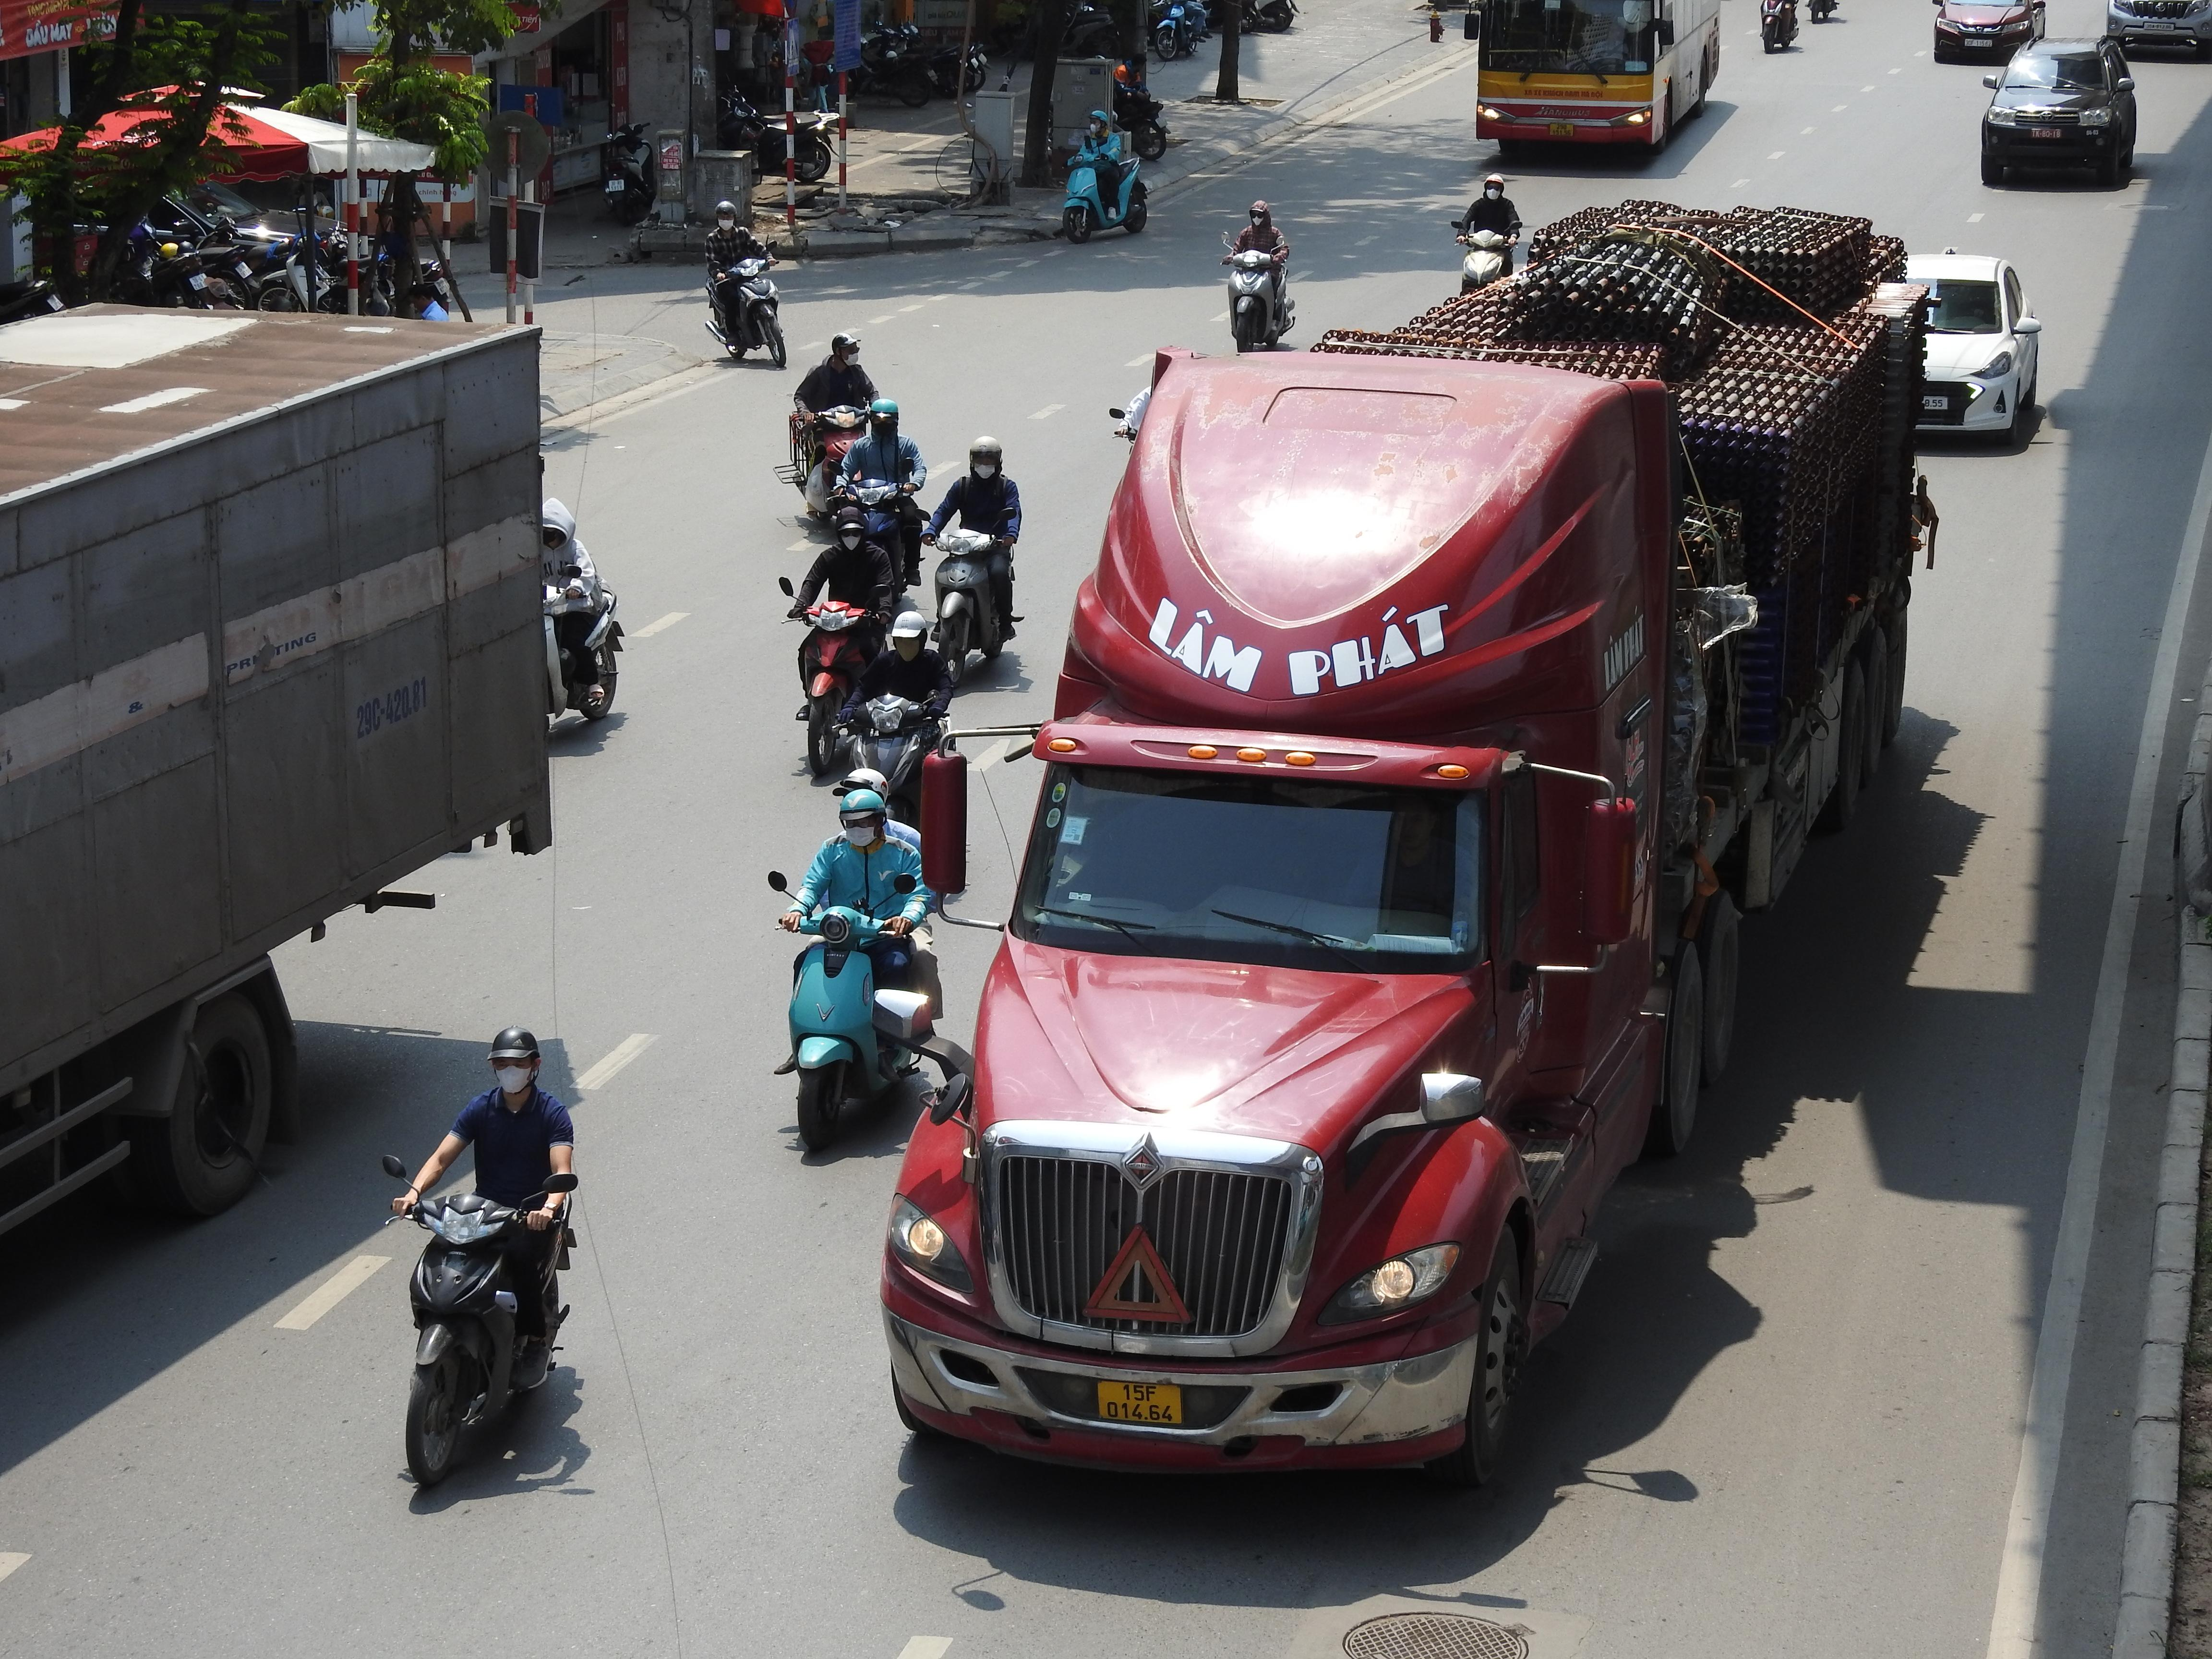BSD: (2029, 127, 2060, 139), (2142, 23, 2174, 31), (1965, 38, 1993, 47)
BSV: (1097, 1380, 1183, 1425), (1550, 122, 1573, 136)
bus: (1468, 0, 1726, 152)
car: (1890, 251, 2045, 450), (1979, 37, 2141, 190), (1932, 0, 2050, 63), (2102, 0, 2212, 61)
motorbike: (385, 1025, 580, 1490), (768, 770, 948, 1162), (782, 502, 900, 782), (925, 434, 1024, 687), (836, 608, 963, 789), (543, 493, 625, 741), (827, 399, 930, 596), (780, 331, 881, 525), (702, 206, 789, 366), (1059, 112, 1153, 244), (1221, 197, 1296, 354), (1453, 173, 1524, 291), (1104, 59, 1170, 164), (1144, 0, 1207, 63), (1757, 0, 1799, 54)
truck: (878, 204, 1939, 1492), (0, 300, 559, 1488)
